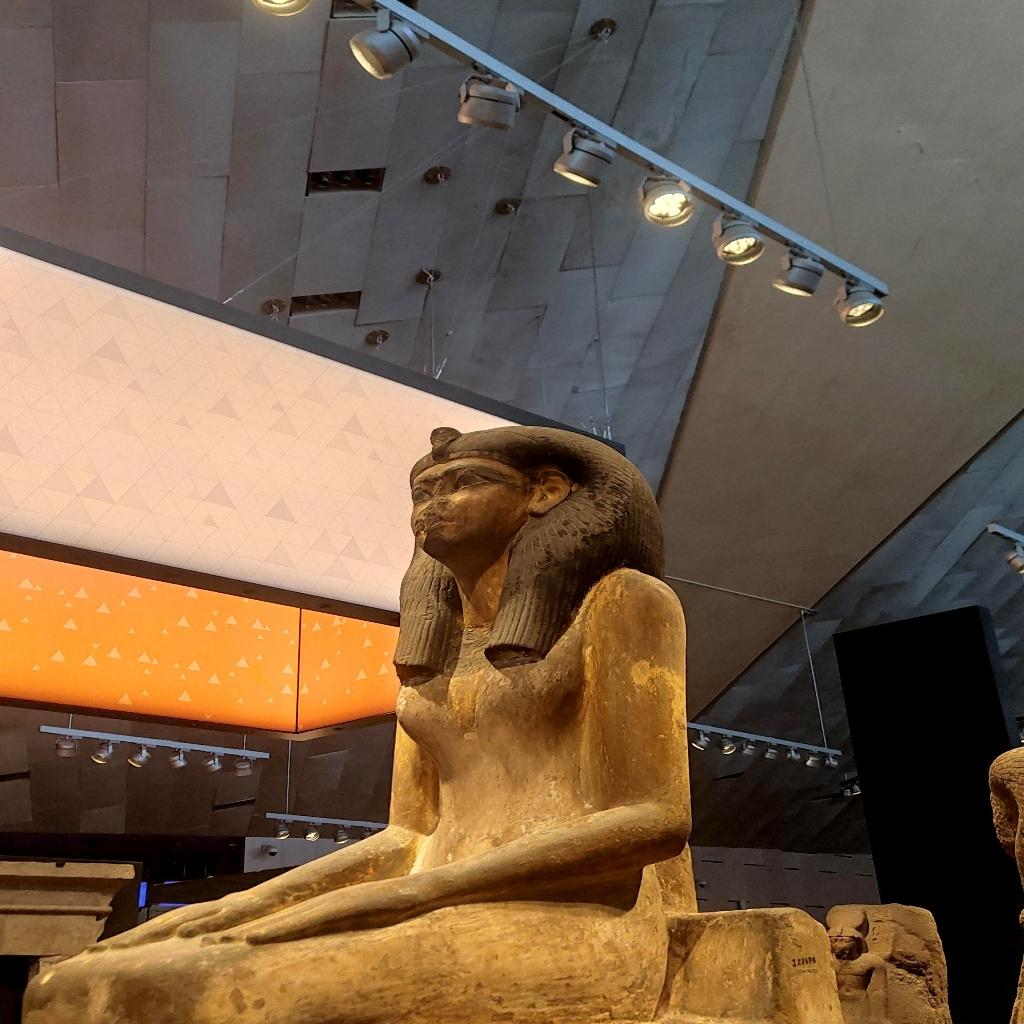Statue of Queen Metnoforet: (14, 418, 719, 1019)
